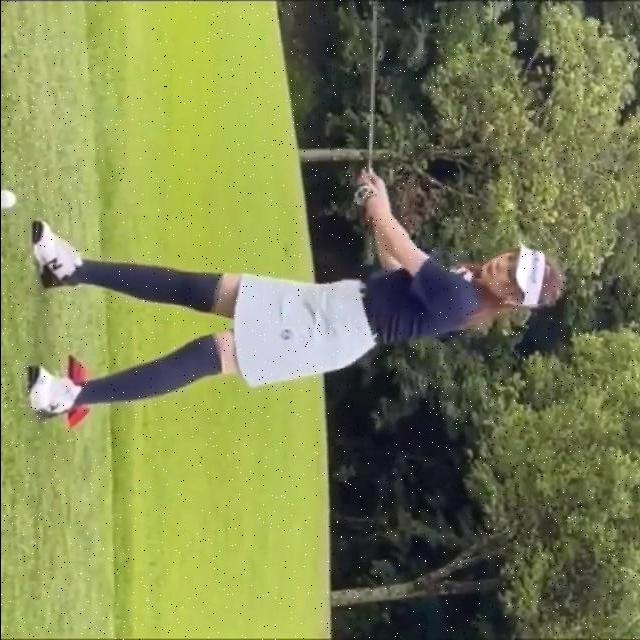golf ball: (0, 181, 20, 219)
golf club-handle: (364, 0, 383, 186)
